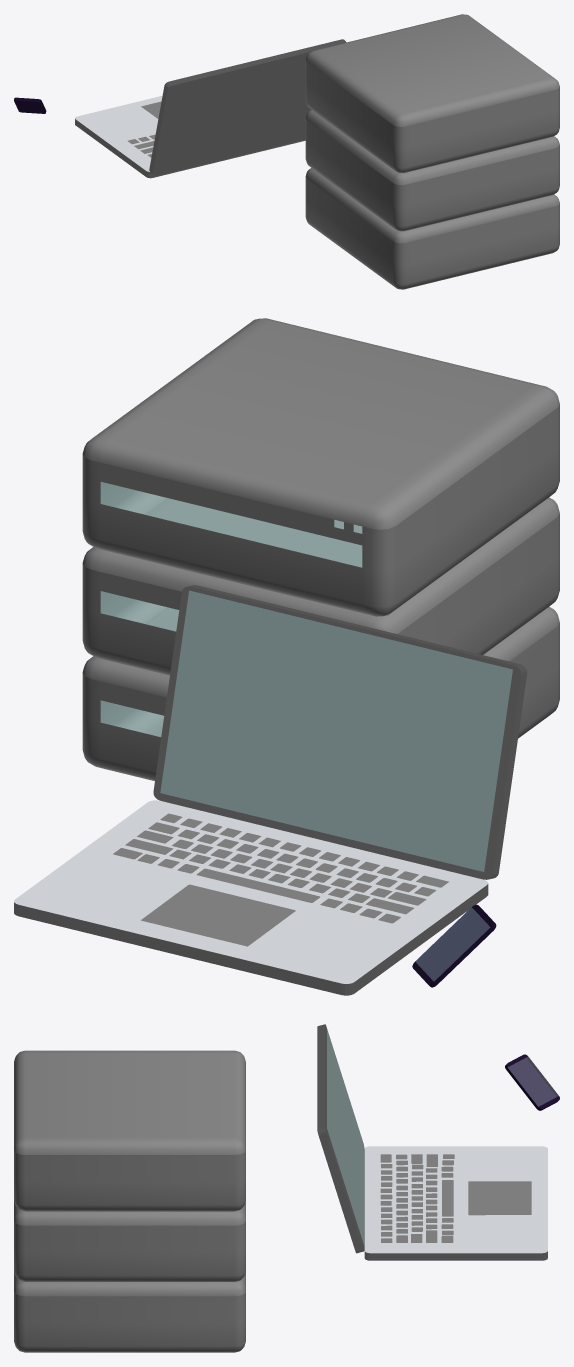
File: laptop.glb
The picture shows the model from 3 angles, top to bottom: view 1: azimuth 30°, elevation 25°; view 2: azimuth 150°, elevation 25°; view 3: azimuth 270°, elevation 25°; orthographic projection. The views are drawn at different scales.
Parts seen in each view (by area): view 1: Cube.005, Cube.002, Cube.001, Cube.003, Cube; view 2: Cube.005, Cube.002, Screen, Cube.001, Cube.003, Cube; view 3: Cube.005, Cube.001, Cube.003, Cube.002, Screen, Cube.
Boxes of the visible parts, <box> form: Cube.005: <box>305,14,559,289</box>; Cube.002: <box>149,39,346,175</box>; Cube.001: <box>75,95,305,178</box>; Cube.003: <box>128,101,161,157</box>; Cube: <box>14,97,46,113</box>; Cube.005: <box>82,318,559,780</box>; Cube.002: <box>153,585,527,879</box>; Screen: <box>160,591,512,871</box>; Cube.001: <box>14,800,488,995</box>; Cube.003: <box>113,813,448,946</box>; Cube: <box>412,904,496,987</box>; Cube.005: <box>14,1050,245,1352</box>; Cube.001: <box>364,1146,547,1260</box>; Cube.003: <box>380,1154,531,1242</box>; Cube.002: <box>317,1024,364,1253</box>; Screen: <box>327,1028,363,1242</box>; Cube: <box>505,1054,559,1110</box>.
Bounding box in the file's own units: 0.3748 × 0.1847 × 0.4315.
6 materials, 1 textured.
